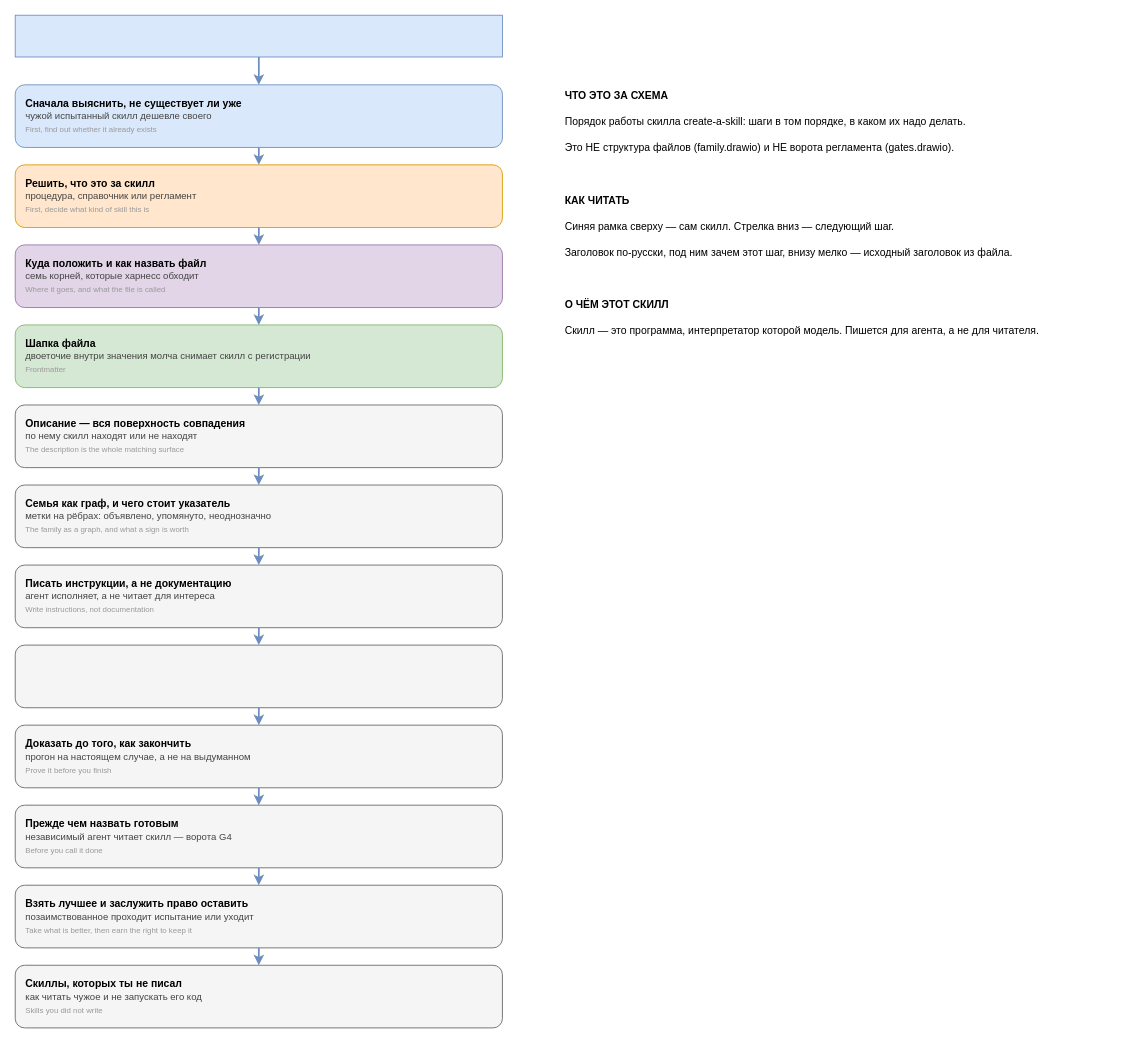
The diagram is 1135 pixels wide and 1043 high, and some of its shapes have lost their labels. The shapes that lost their labels are listed below. From the top down, each one's centre as x and y in pixels, then its label:
At point (258, 35): "Как написать скилл".
At point (258, 676): "Тело — как процедура шаги, а не рассказ о шагах Write the body as a procedure".
